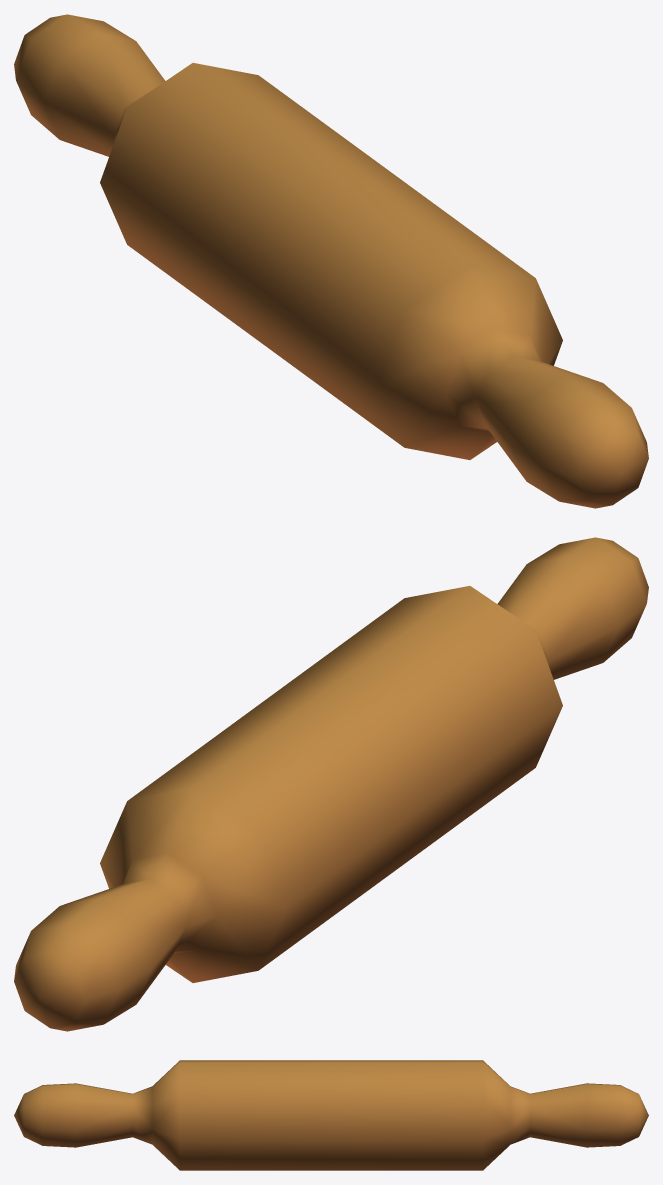
The model's file is rolling_pin_01.fbx.
3 views of the same model, one above another, from view 1: azimuth 30°, elevation 25°; view 2: azimuth 150°, elevation 25°; view 3: azimuth 270°, elevation 25° (orthographic). The views are drawn at different scales.
Parts seen in each view (by area): view 1: rolling_pin_01_ready; view 2: rolling_pin_01_ready; view 3: rolling_pin_01_ready.
Part boxes in pixels (bbox=[...]): rolling_pin_01_ready: bbox=[14, 14, 648, 508]; rolling_pin_01_ready: bbox=[14, 537, 648, 1031]; rolling_pin_01_ready: bbox=[14, 1060, 648, 1170].
Size of the model in its own units: 11.49 by 11.49 by 62.21.
